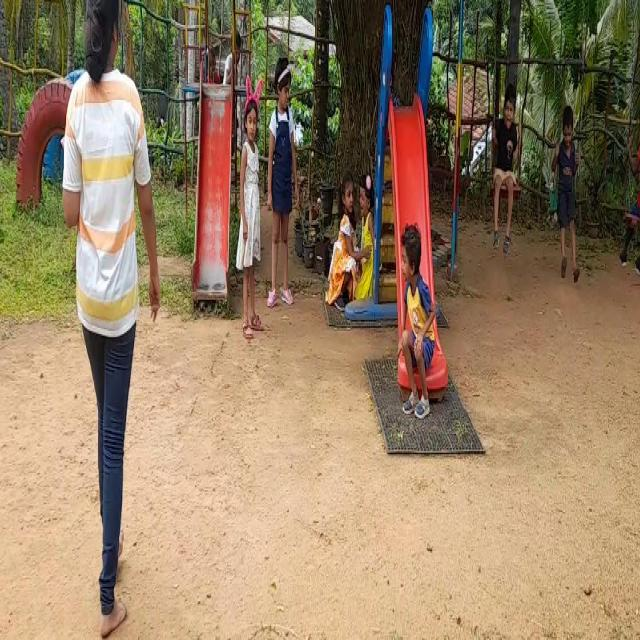adult: (48, 0, 155, 635)
child: (394, 204, 439, 420), (232, 85, 264, 343), (549, 71, 585, 286), (271, 42, 298, 315), (489, 68, 518, 260), (334, 162, 356, 334), (627, 73, 640, 280)
